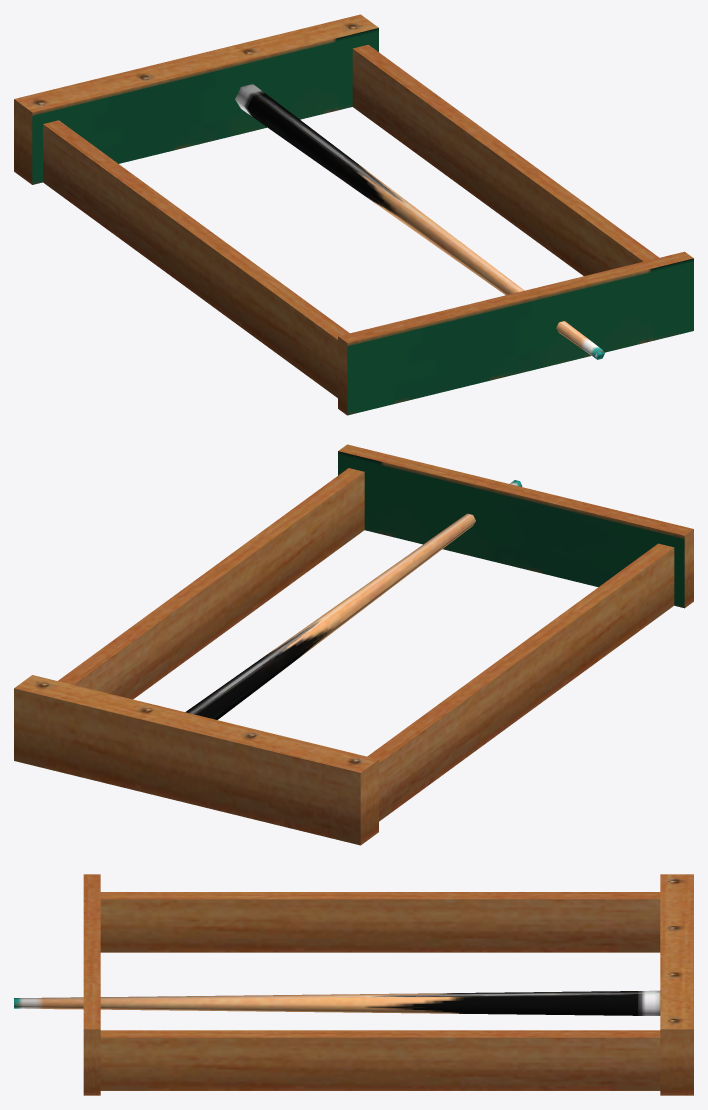
Rendered from cuerack6.fbx.
3 views of the same model, one above another, from view 1: azimuth 30°, elevation 25°; view 2: azimuth 150°, elevation 25°; view 3: azimuth 270°, elevation 25° (orthographic). The views are drawn at different scales.
Visible parts, largest first — view 1: mesh_0; view 2: mesh_0; view 3: mesh_0.
Boxes of the visible parts, x1,y1,x2,y2 form: mesh_0: (14,14,693,415); mesh_0: (14,444,693,845); mesh_0: (14,874,693,1095).
Size of the model in its own units: 100 by 20 by 186.
Materials: 1 (1 with a texture image).
